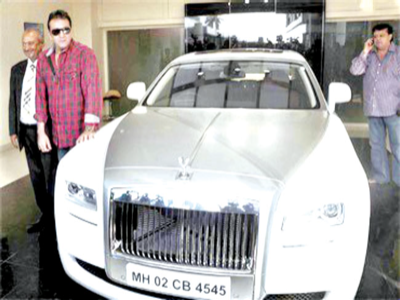licence: (129, 267, 232, 298)
